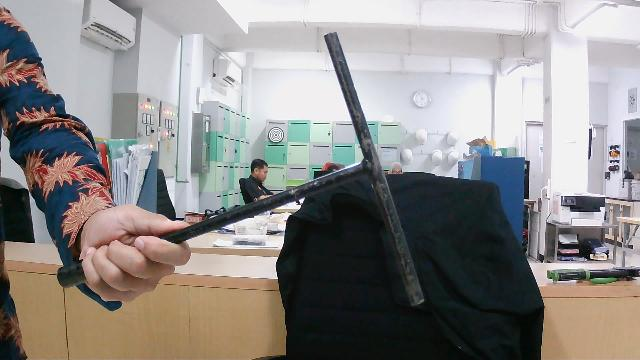kunci_t: (47, 34, 428, 309)
